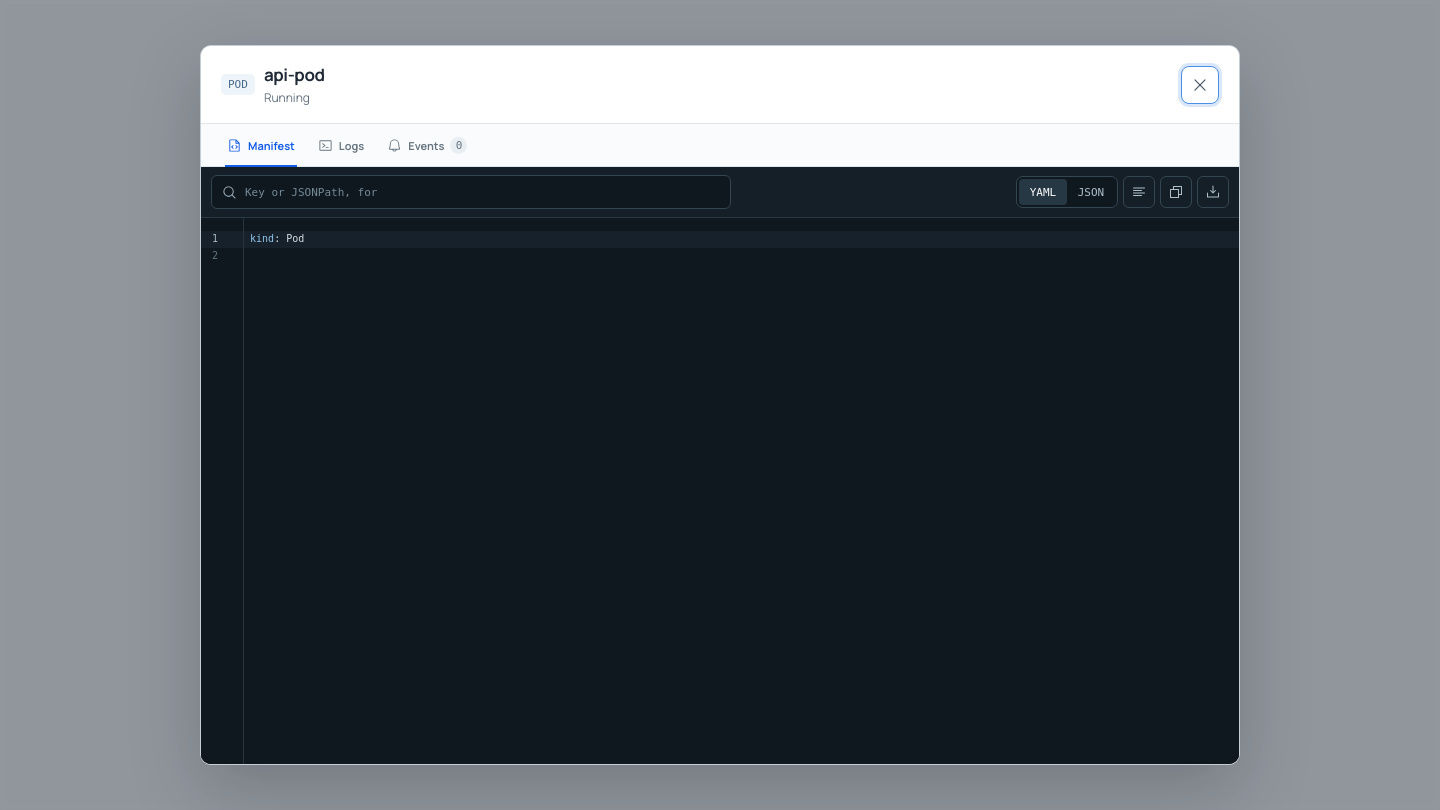
Scenario: resource inspector › opens application logs while keeping sidecar and init logs selectable
This screenshot has width=1440, height=810.
Click the button "Logs": (341, 145) x1=308 y1=124 x2=374 y2=166
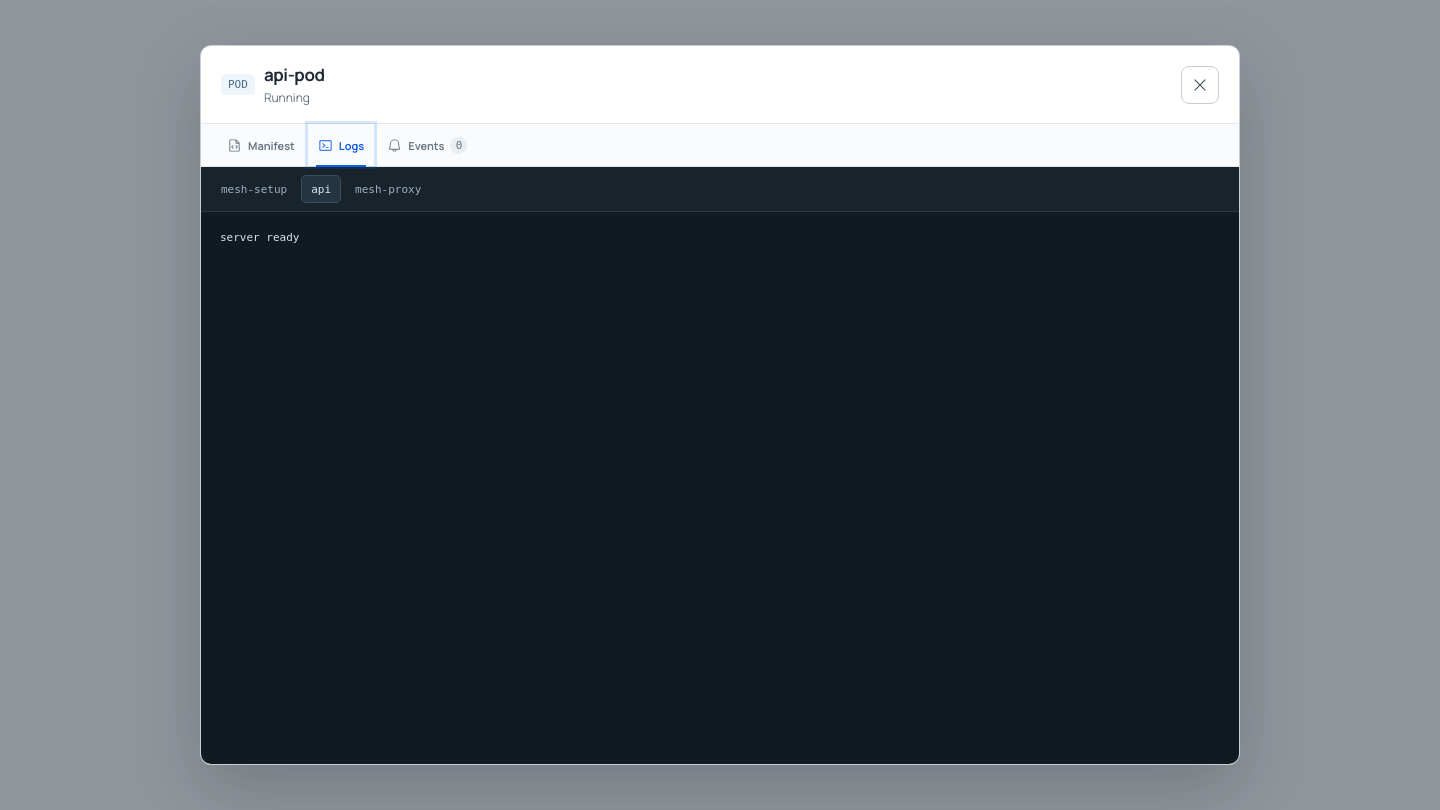
Check: the text "server ready" is shown, box x1=220 y1=231 x2=300 y2=244
Click the tab "mesh-proxy": (388, 189) x1=345 y1=175 x2=431 y2=203
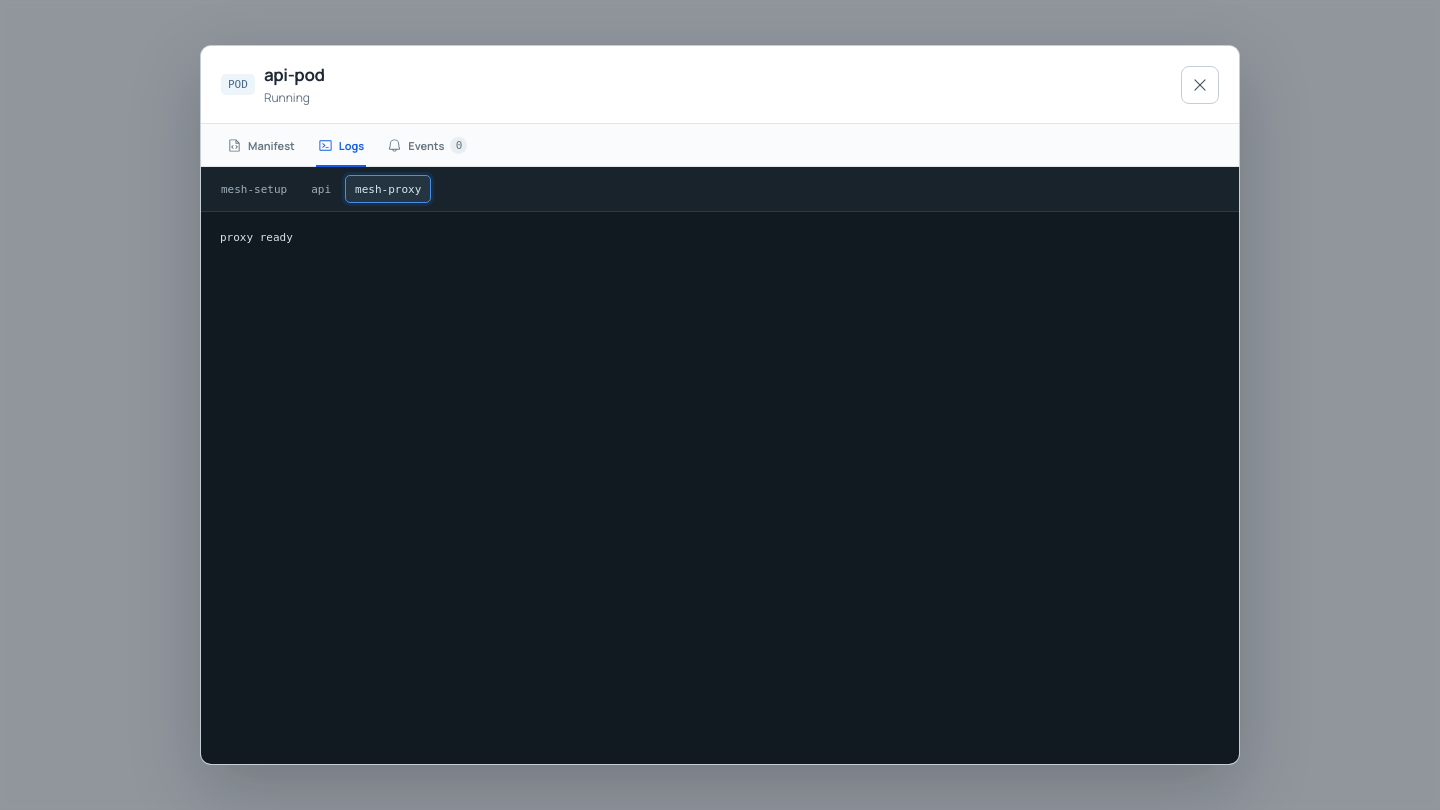
Check: the text "proxy ready" is shown, box x1=220 y1=231 x2=293 y2=244
